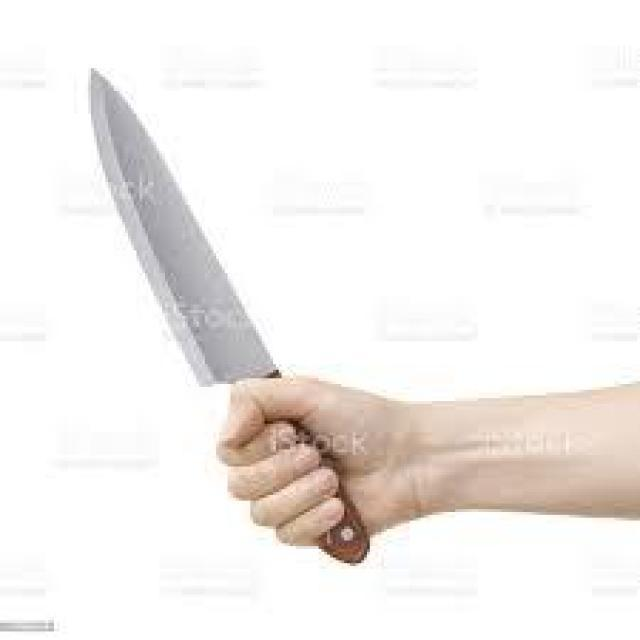faca: (68, 42, 418, 550)
